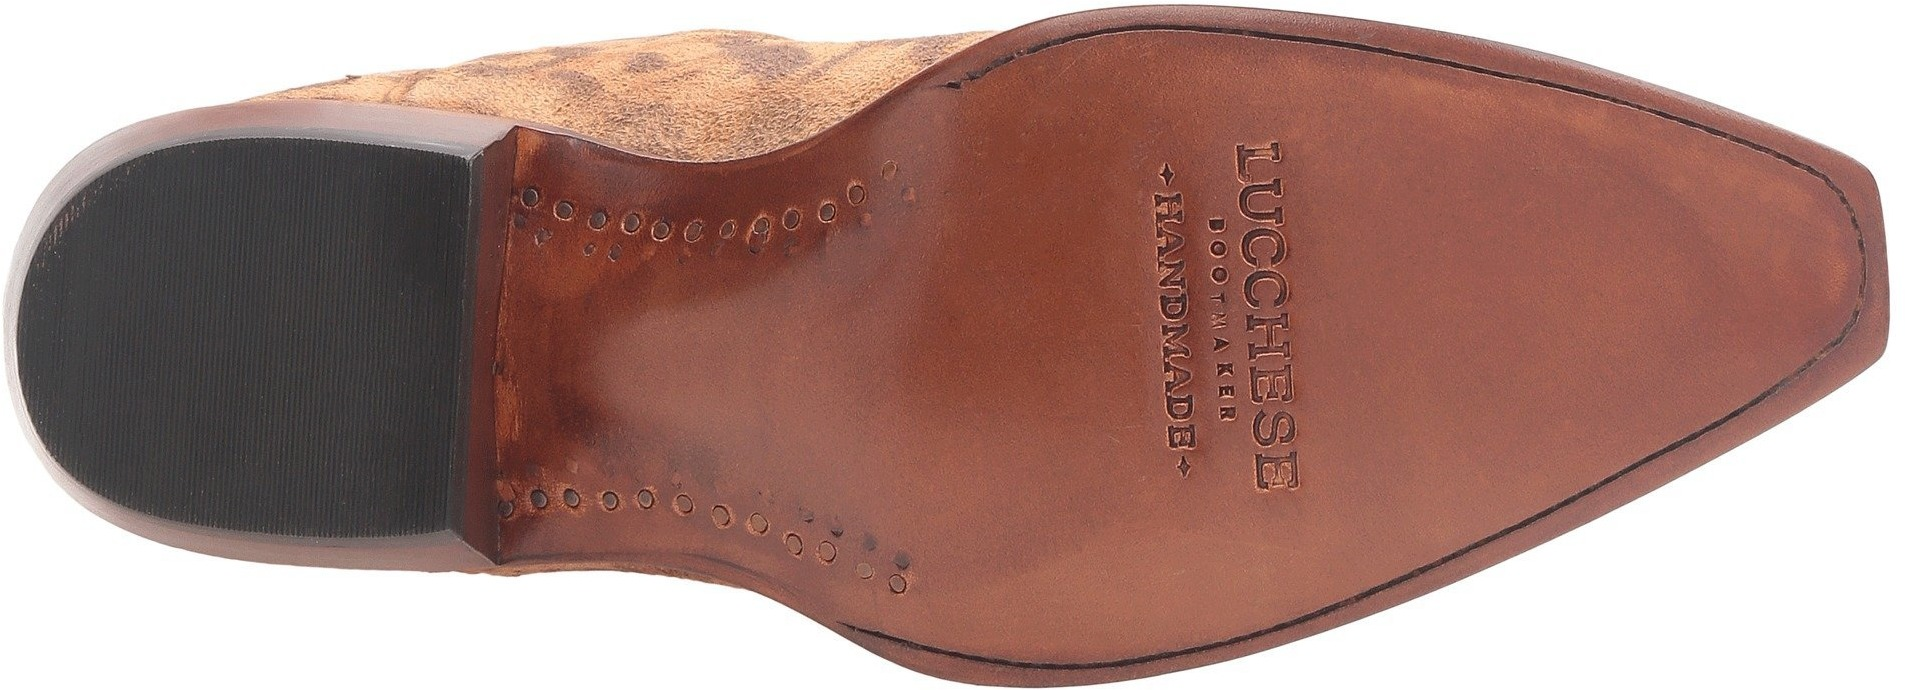exclude: (434, 0, 940, 679)
other: (17, 143, 467, 547), (1327, 98, 1645, 466)
text: (1129, 123, 1315, 507)
